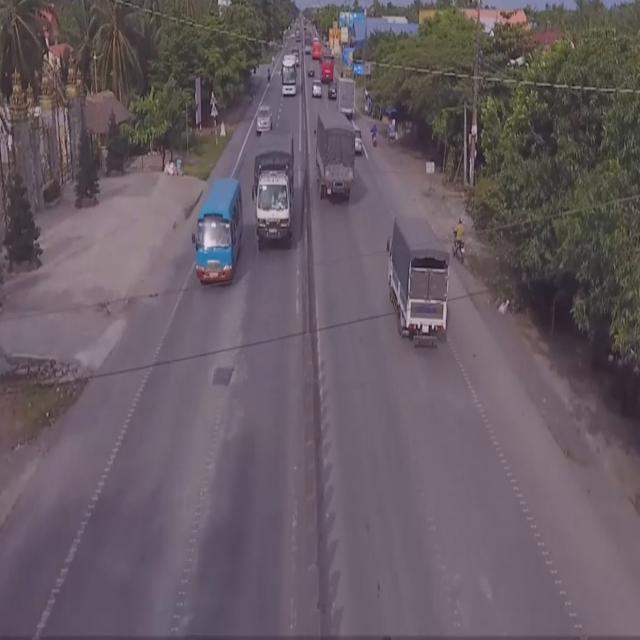bus: (194, 177, 245, 291), (282, 55, 298, 98)
car: (255, 104, 274, 136), (353, 126, 364, 156)
motorbike: (449, 216, 466, 270)
truck: (386, 213, 450, 345), (255, 126, 294, 246), (317, 114, 355, 207), (338, 80, 356, 115)
